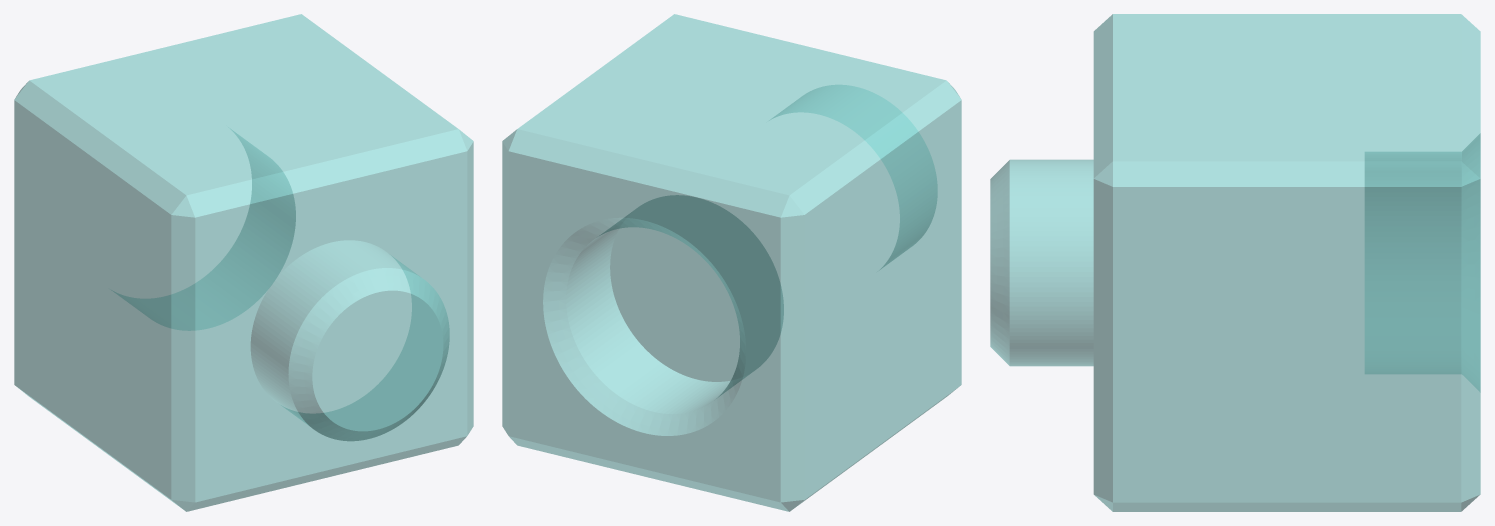
The model's file is crystal@crystal.glb.
3 renders of one model, left to right at view 1: azimuth 30°, elevation 25°; view 2: azimuth 150°, elevation 25°; view 3: azimuth 270°, elevation 25°, orthographic. The views are drawn at different scales.
Visible parts, largest first — view 1: geometry_0; view 2: geometry_0; view 3: geometry_0.
Part boxes in pixels (bbox=[...]): geometry_0: bbox=[14, 14, 473, 511]; geometry_0: bbox=[502, 14, 961, 511]; geometry_0: bbox=[990, 14, 1480, 511].
Size of the model in its own units: 6 by 6 by 7.6.
